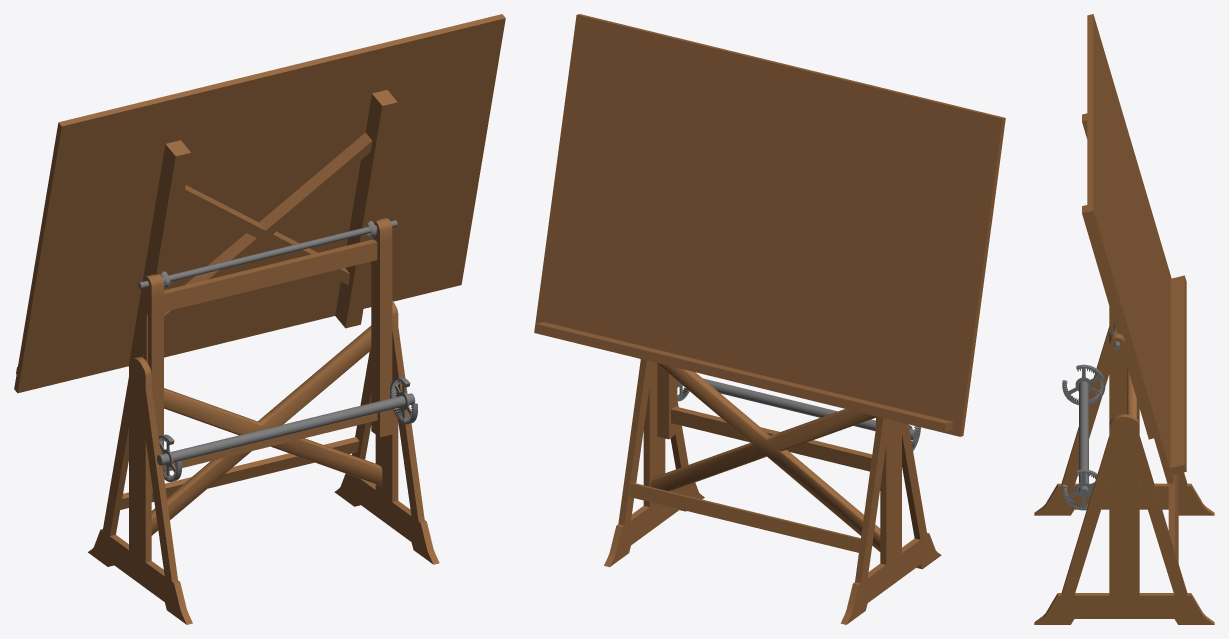
Rendered from DrawingBoard.fbx.
3 renders of one model, left to right at view 1: azimuth 30°, elevation 25°; view 2: azimuth 150°, elevation 25°; view 3: azimuth 270°, elevation 25°, orthographic. The views are drawn at different scales.
Visible parts, largest first — view 1: DB_Board, DB_Support, DB_Height.Adjuster, DB_Adjuster; view 2: DB_Board, DB_Support, DB_Height.Adjuster, DB_Adjuster; view 3: DB_Board, DB_Support, DB_Adjuster, DB_Height.Adjuster.
Part boxes in pixels (x1,y1,x2,y2): DB_Board: (14,14,505,393); DB_Support: (88,300,439,624); DB_Height.Adjuster: (137,218,397,492); DB_Adjuster: (157,377,417,481); DB_Board: (534,14,1005,436); DB_Support: (604,359,941,624); DB_Height.Adjuster: (657,364,880,490); DB_Adjuster: (677,378,920,450); DB_Board: (1082,14,1186,483); DB_Support: (1034,326,1214,624); DB_Adjuster: (1062,364,1105,510); DB_Height.Adjuster: (1109,306,1124,422).
Size of the model in its own units: 225 by 243 by 87.17.
